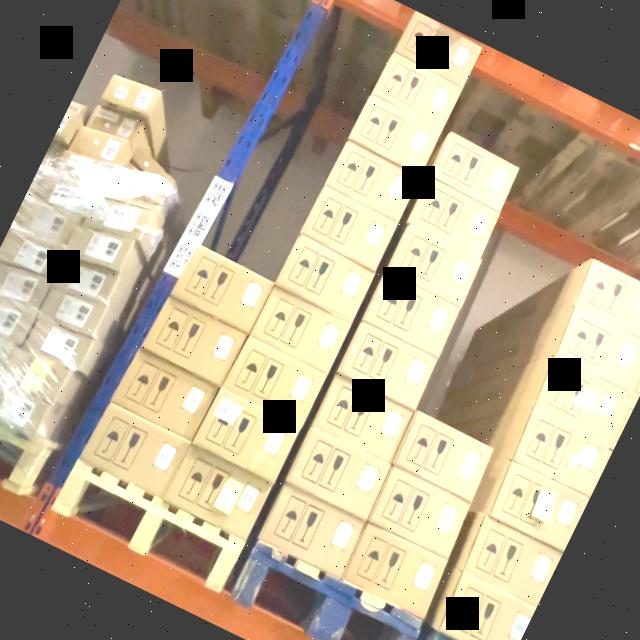box: (80, 403, 188, 499), (193, 389, 298, 482), (163, 449, 270, 540), (287, 427, 389, 520), (344, 528, 446, 620), (111, 351, 215, 441), (141, 298, 246, 387), (259, 489, 362, 579), (369, 468, 469, 560), (170, 245, 273, 334), (223, 338, 324, 427), (313, 377, 413, 464), (274, 236, 374, 323), (250, 287, 350, 373), (513, 408, 609, 495), (396, 414, 492, 501), (338, 323, 435, 409), (363, 273, 459, 358), (301, 187, 397, 271), (534, 357, 627, 442), (325, 141, 418, 222), (388, 226, 480, 307), (348, 96, 440, 175), (409, 179, 499, 259), (429, 132, 519, 212), (555, 307, 640, 390), (393, 11, 481, 88), (372, 53, 461, 129), (574, 258, 640, 338), (1, 348, 67, 404), (21, 319, 92, 371), (39, 289, 105, 338), (52, 258, 116, 304), (65, 228, 133, 271), (85, 196, 150, 239), (0, 384, 47, 440), (86, 105, 142, 145), (69, 126, 127, 162), (102, 77, 157, 114), (132, 148, 174, 184)
